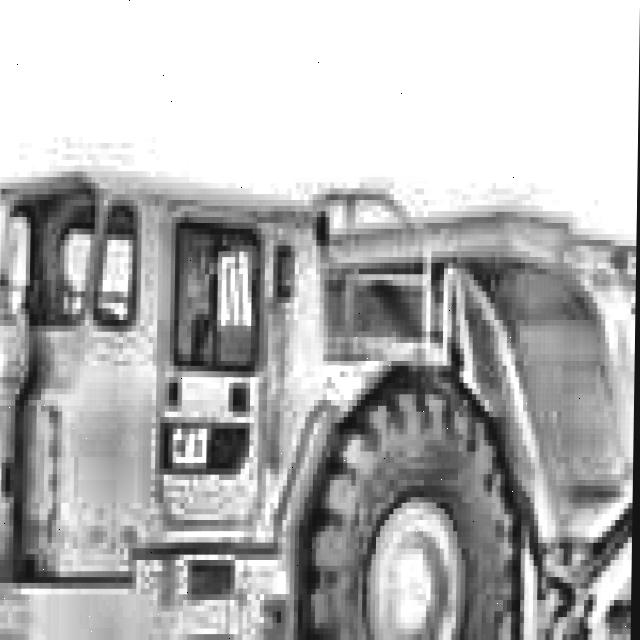dump_truck: (0, 34, 640, 640)
